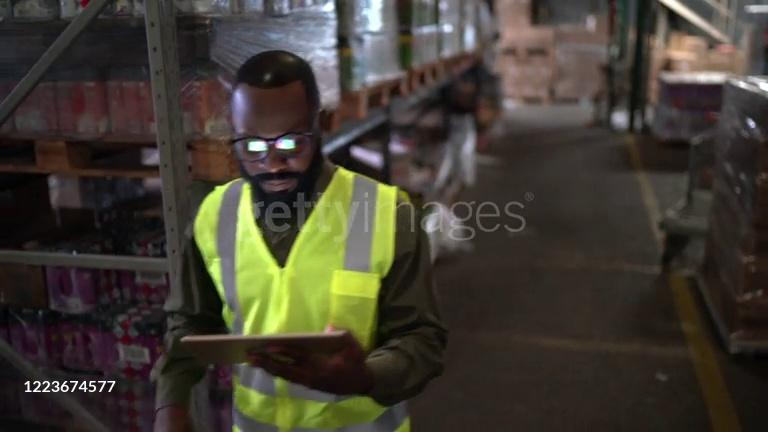person: (153, 49, 450, 432)
